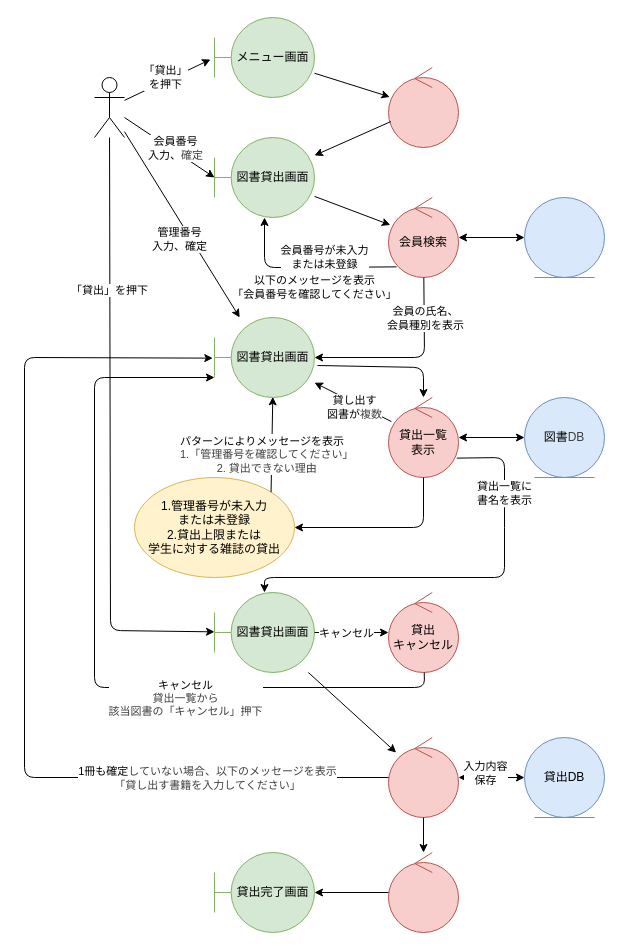
The diagram is 622 pixels wide and 950 high, and some of its shapes have lost their labels. The shapes that lost their labels are listed below. From the top down, each one's centre as x and y in pixels, then its label:
pixel 109 107: 事務職員
pixel 423 107: 図書貸出 画面表示
pixel 564 237: 会員DB
pixel 423 777: 貸出処理
pixel 423 892: 貸出完了 画面表示
